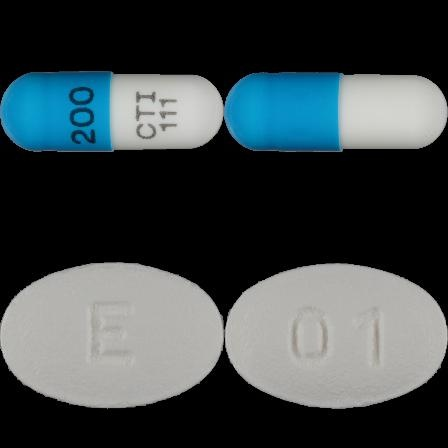68788-9690: (0, 0, 224, 224)
